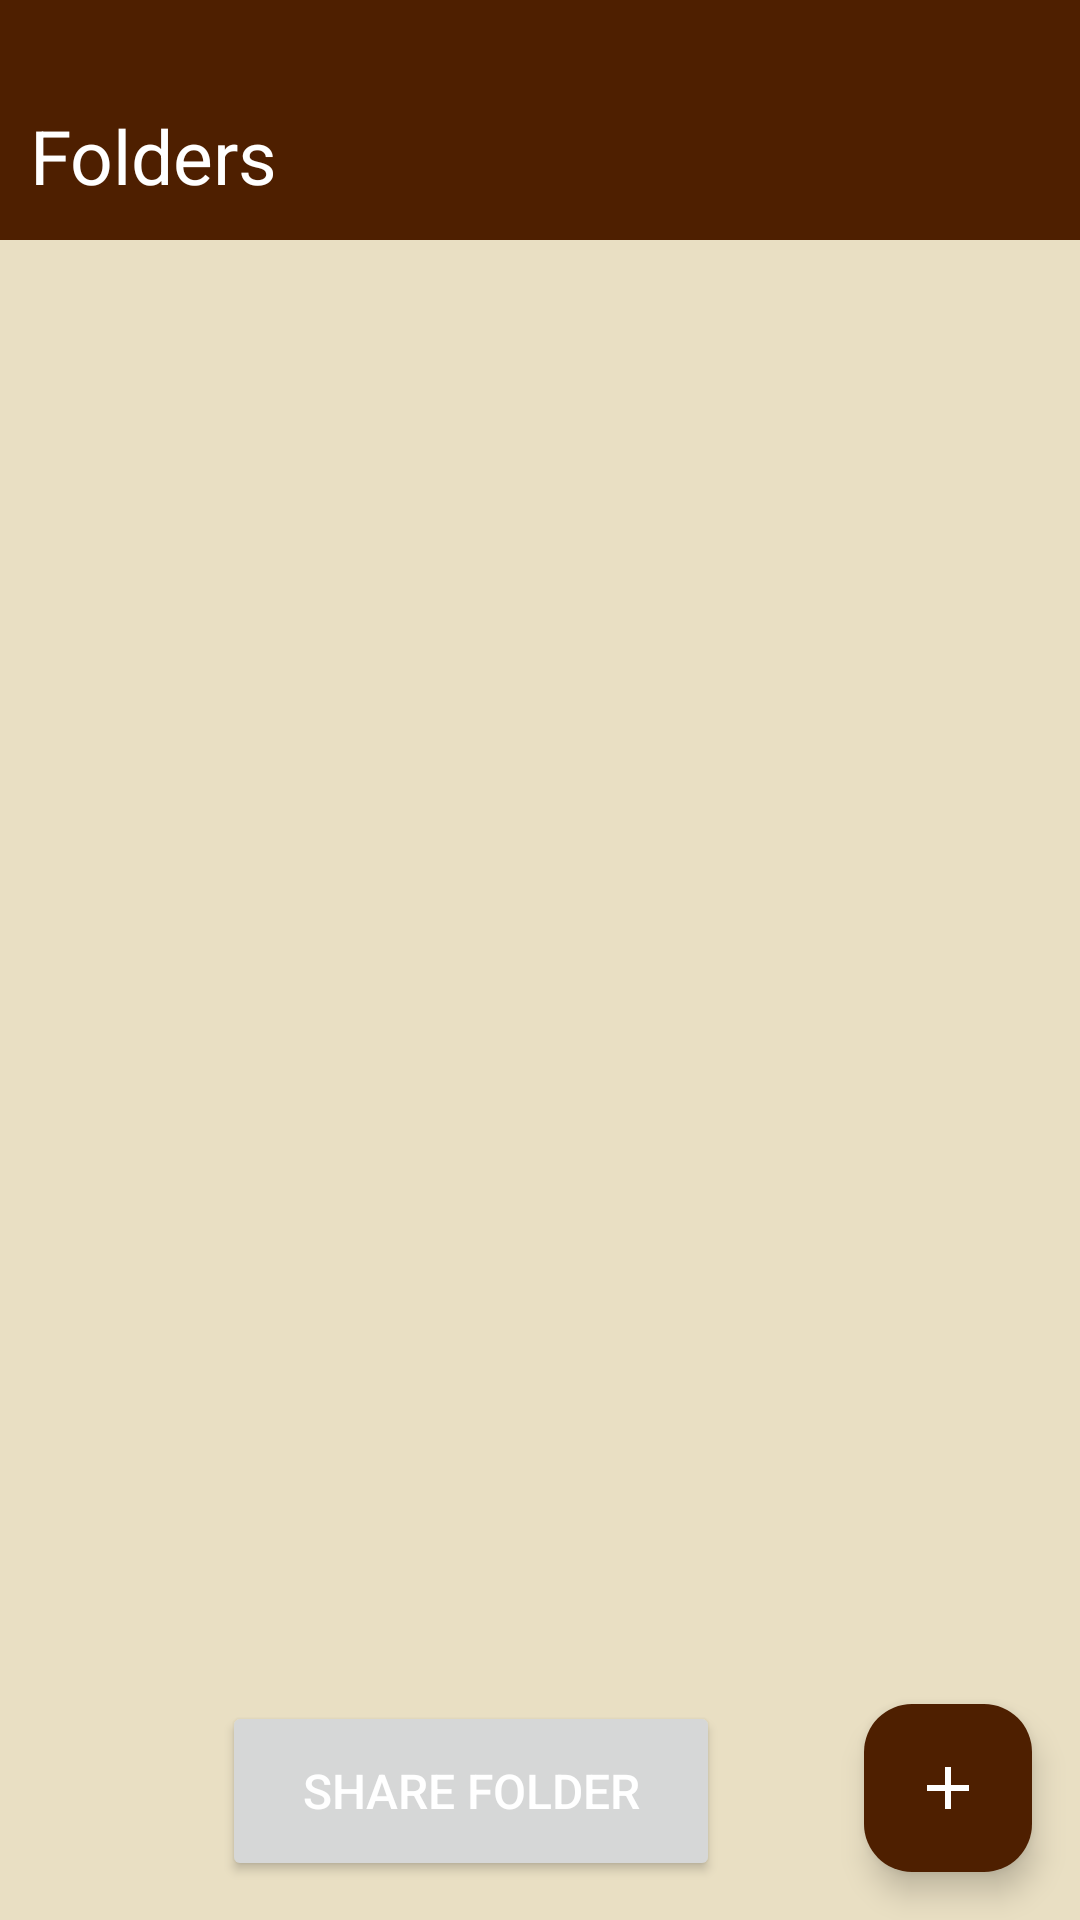

Named icons in this screenshot (1080*1920) and their centers, (x,y):
Add Folder: (948,1788)
